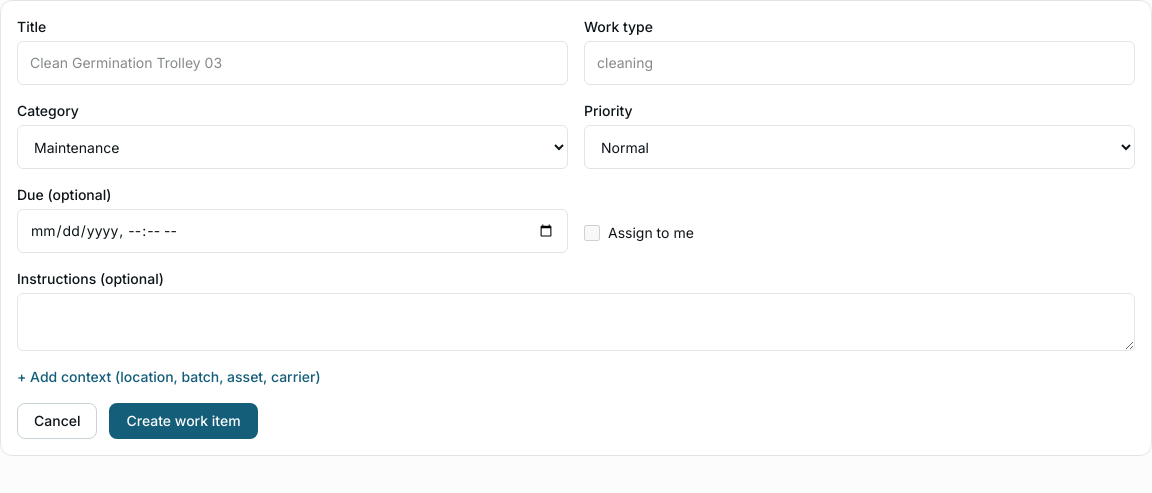
Scenario: CreateWorkItemForm: validation and payload shape › rejects submission with a blank title/work type
Click the button "Create work item" at (184, 421), box [110,403,258,439]
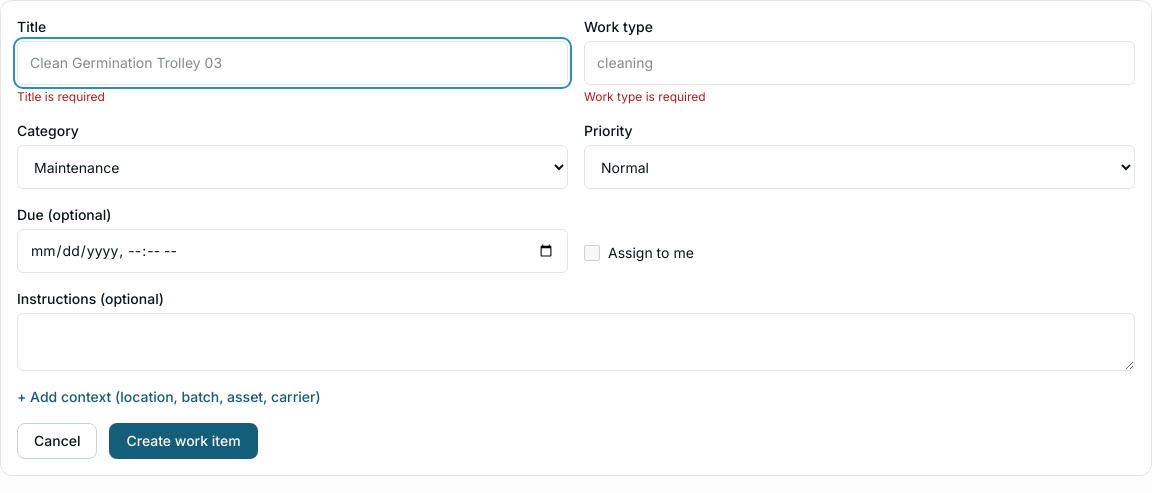
Check: the text "Title is required" is shown, box [17,89,105,104]
Check: the text "Work type is required" is shown, box [584,89,706,104]
